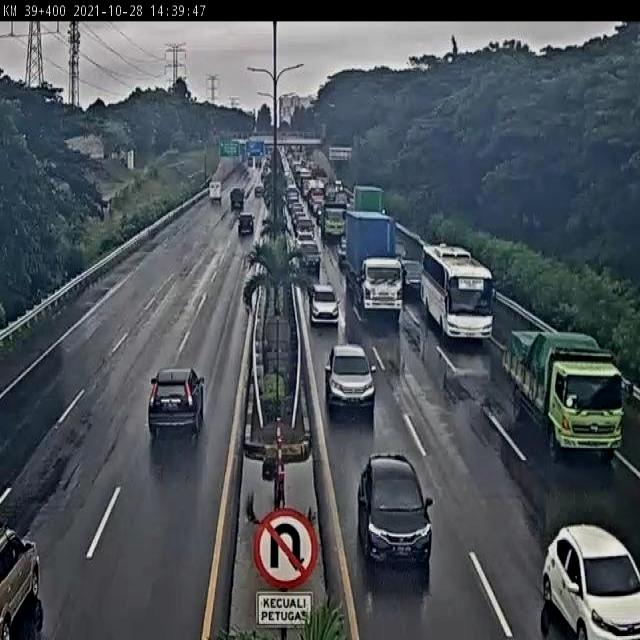Bus: (422, 240, 496, 341)
Car: (542, 524, 640, 638), (357, 452, 433, 573), (147, 366, 206, 441), (324, 343, 376, 422), (309, 282, 340, 326), (299, 240, 320, 271), (238, 214, 254, 236)
Truck: (503, 328, 620, 462), (341, 210, 400, 322), (322, 200, 348, 243), (231, 186, 245, 212), (207, 182, 221, 203)
